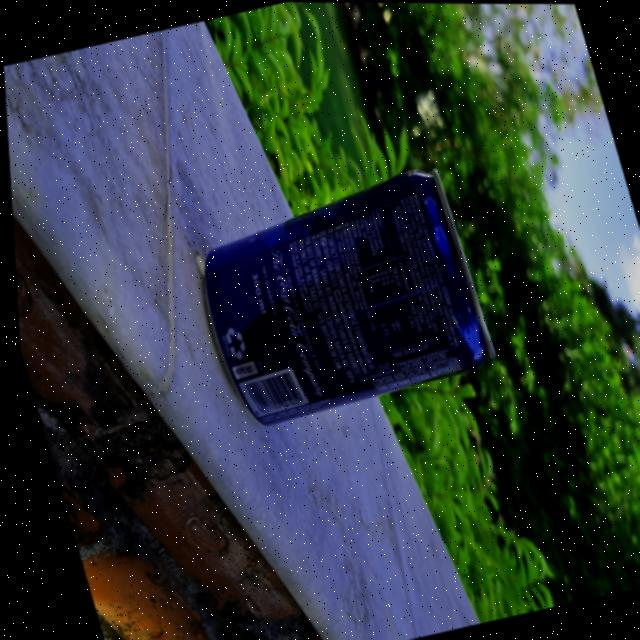Thums Up: (183, 166, 502, 430)
